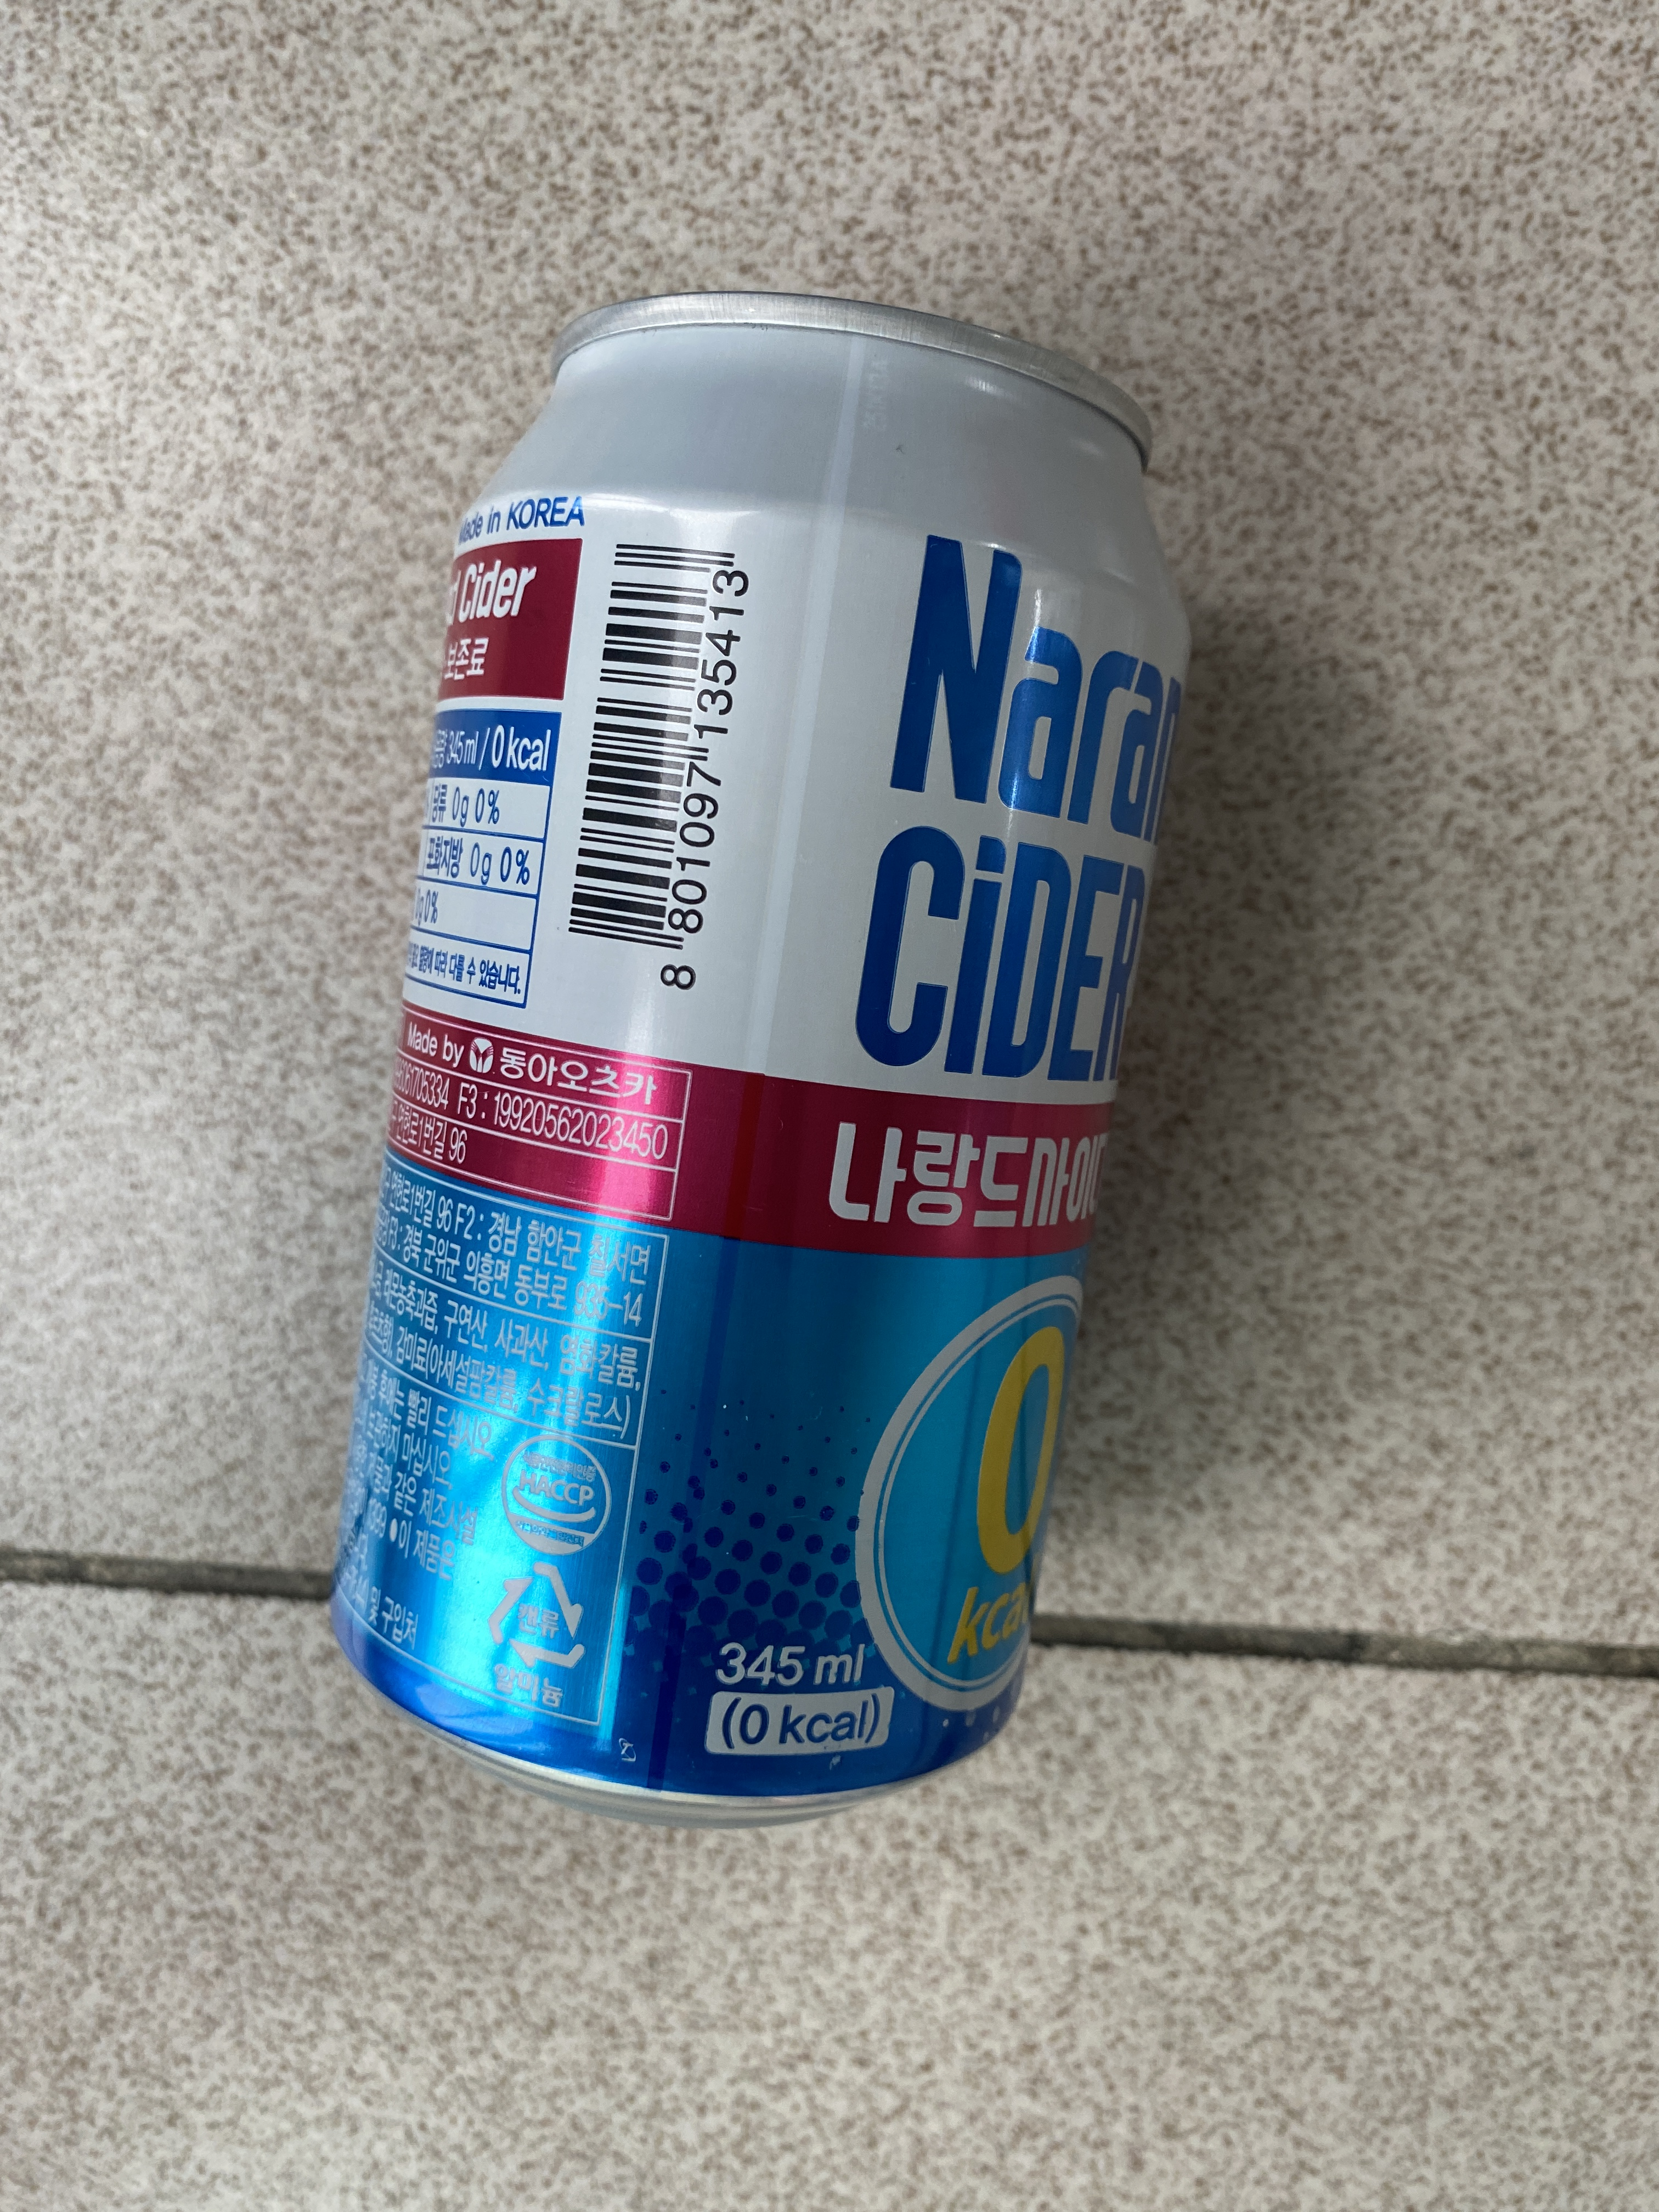metal: (279, 181, 1276, 1898)
